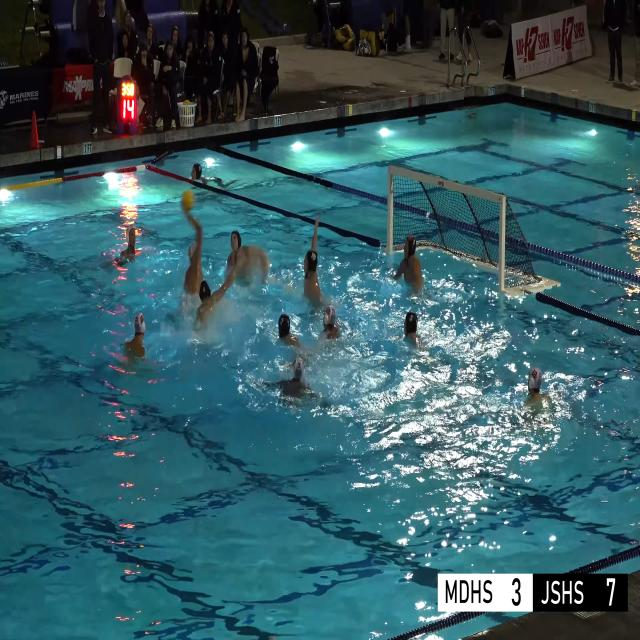ball: (182, 189, 194, 210), (183, 100, 191, 106)
